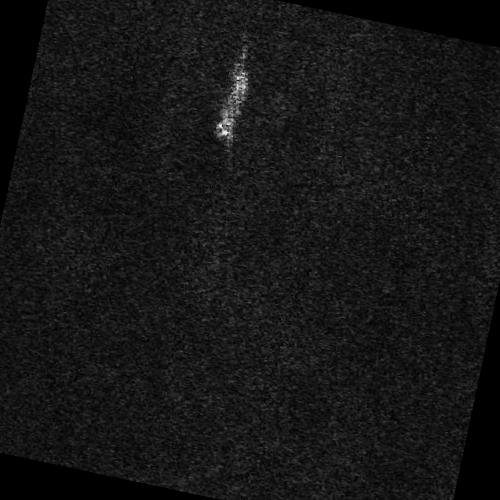ship: (216, 70, 248, 142)
